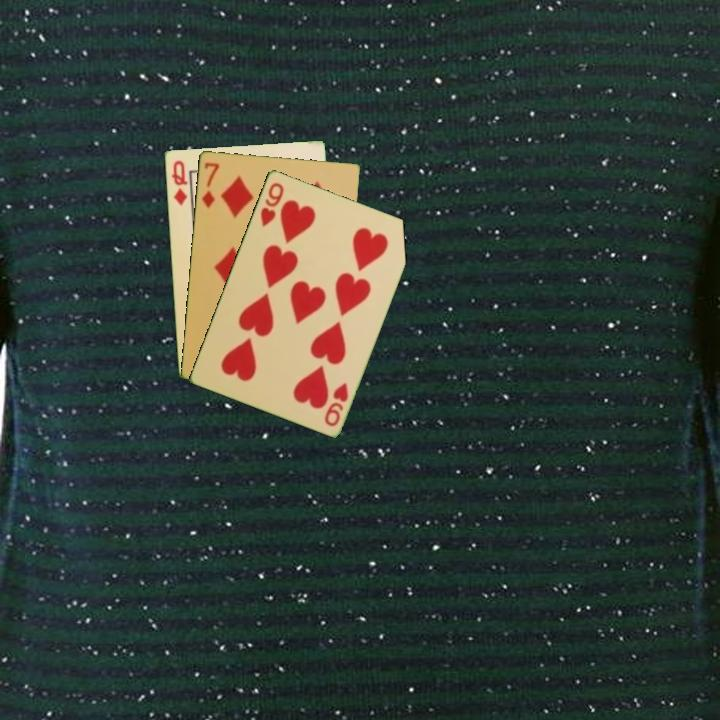7d: (198, 158, 222, 210)
9h: (320, 379, 351, 429), (257, 179, 287, 229)
Qd: (168, 157, 190, 208)
